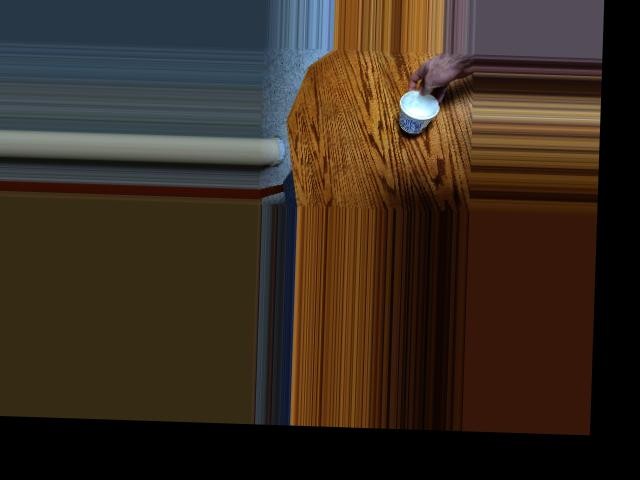cotage: (399, 89, 431, 132)
